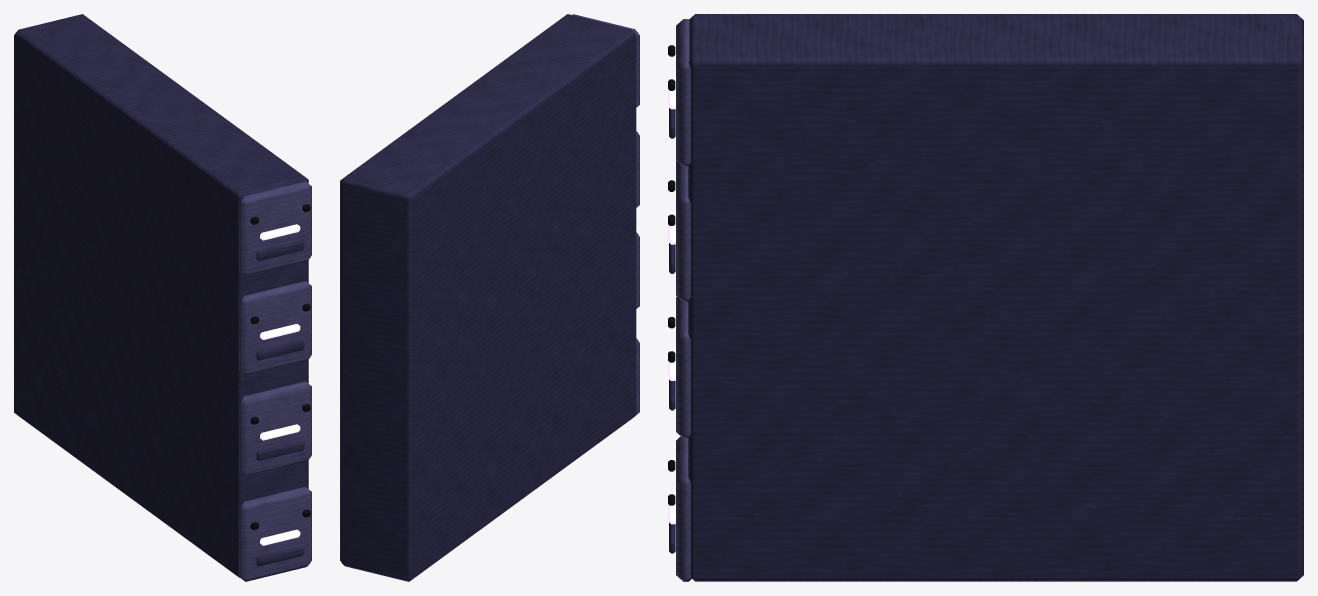
File: orbital_array_wall.glb
The picture shows the model from 3 angles, left to right: view 1: azimuth 30°, elevation 25°; view 2: azimuth 150°, elevation 25°; view 3: azimuth 270°, elevation 25°; orthographic projection. The views are drawn at different scales.
Parts seen in each view (by area): view 1: orbital_array_wall - orbital_array panels, orbital_array_wall - orbital_array trim, orbital_array_wall - orbital_array accents, orbital_array_wall - Recessed iron; view 2: orbital_array_wall - orbital_array panels, orbital_array_wall - orbital_array trim; view 3: orbital_array_wall - orbital_array panels, orbital_array_wall - orbital_array trim.
Part boxes in pixels (left/top/right/bottom): orbital_array_wall - orbital_array panels: left=14, top=14, right=308, bottom=577; orbital_array_wall - orbital_array trim: left=239, top=181, right=311, bottom=581; orbital_array_wall - orbital_array accents: left=260, top=224, right=300, bottom=545; orbital_array_wall - Recessed iron: left=250, top=204, right=310, bottom=529; orbital_array_wall - orbital_array panels: left=340, top=14, right=636, bottom=581; orbital_array_wall - orbital_array trim: left=572, top=14, right=639, bottom=414; orbital_array_wall - orbital_array panels: left=669, top=14, right=1303, bottom=581; orbital_array_wall - orbital_array trim: left=676, top=19, right=691, bottom=581.
Bounding box in the file's own units: 0.79 × 4.01 × 4.39.
4 materials, 3 textured.
